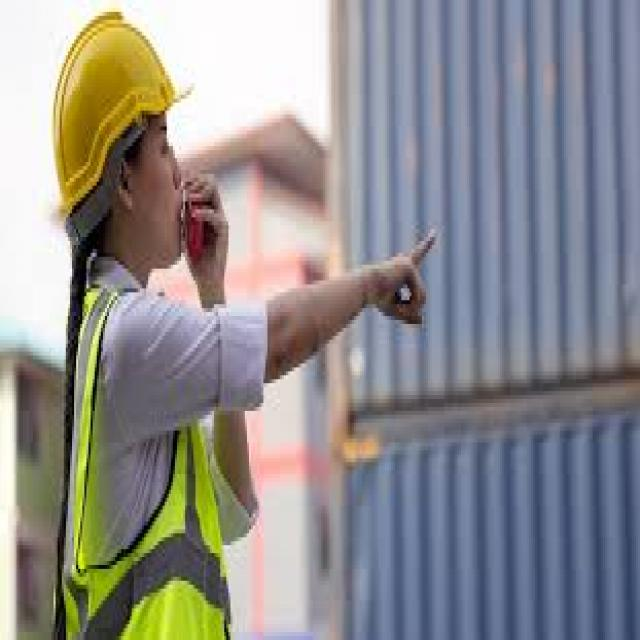Reflective-Jacket: (58, 261, 255, 636)
Safety-Helmet: (41, 4, 189, 225)
